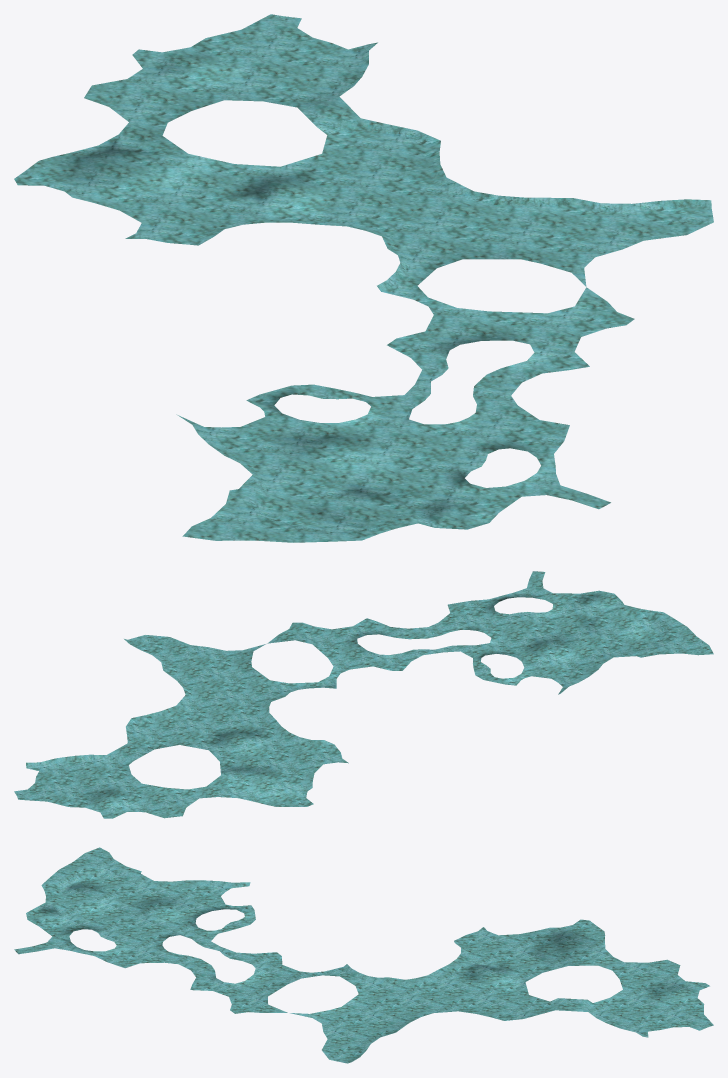
The model's file is EKH_CAVERNS_PS_CA_MAIN_LAKE_FLOOR_01.fbx.
The picture shows the model from 3 angles, top to bottom: view 1: azimuth 30°, elevation 25°; view 2: azimuth 150°, elevation 25°; view 3: azimuth 270°, elevation 25°; orthographic projection. The views are drawn at different scales.
Parts seen in each view (by area): view 1: EKH_CAVERNS_PS_CA_MAIN_LAKE_FLOOR_01; view 2: EKH_CAVERNS_PS_CA_MAIN_LAKE_FLOOR_01; view 3: EKH_CAVERNS_PS_CA_MAIN_LAKE_FLOOR_01.
Part boxes in pixels (<box>): EKH_CAVERNS_PS_CA_MAIN_LAKE_FLOOR_01: <box>14,14,713,542</box>; EKH_CAVERNS_PS_CA_MAIN_LAKE_FLOOR_01: <box>14,571,713,818</box>; EKH_CAVERNS_PS_CA_MAIN_LAKE_FLOOR_01: <box>14,847,713,1063</box>.
Bounding box in the file's own units: 475340 × 2550 × 654751.
1 material, 1 textured.
